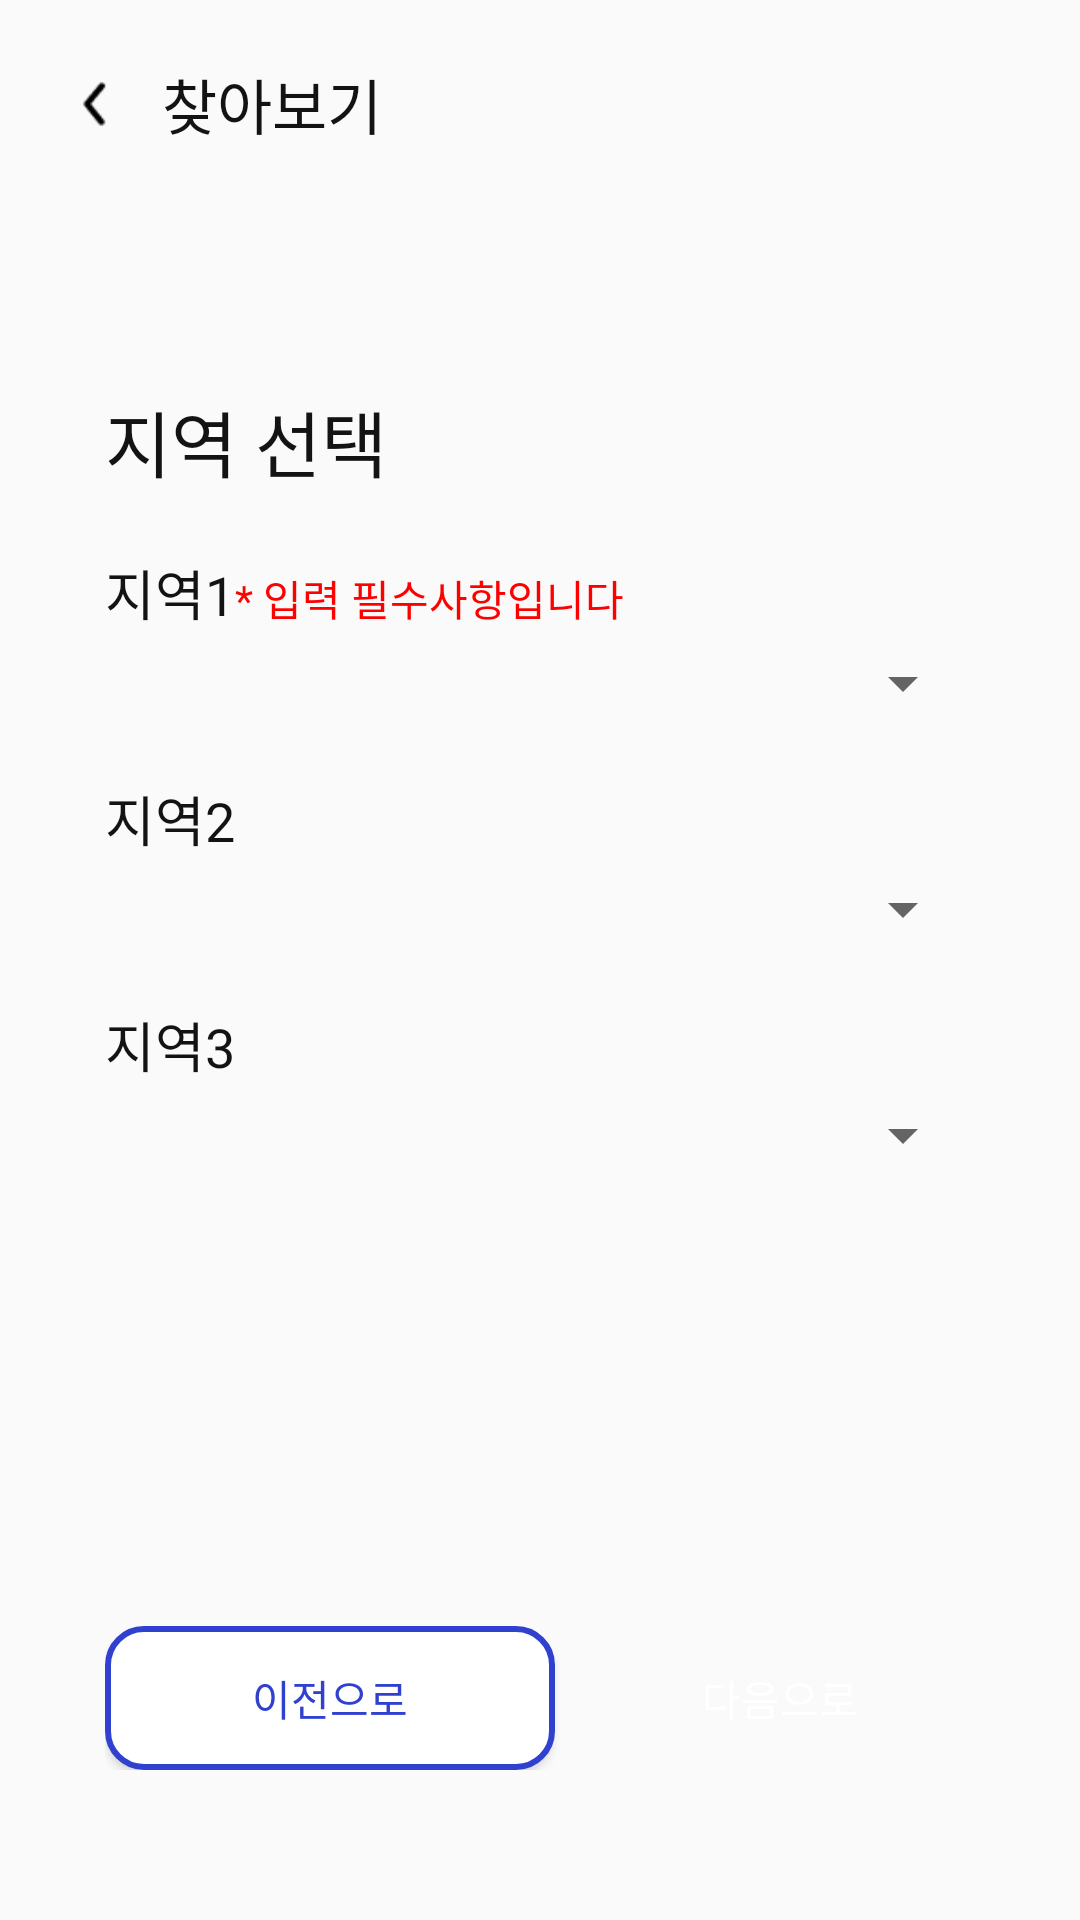

Icons on this 1080px x 1920px Android screen, each with its box as (x1, y1, x2, y2):
arrow: (83, 82, 106, 126)
